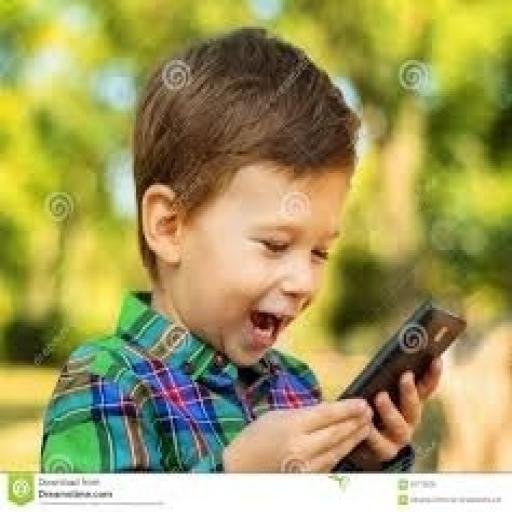texting: (37, 24, 445, 474)
